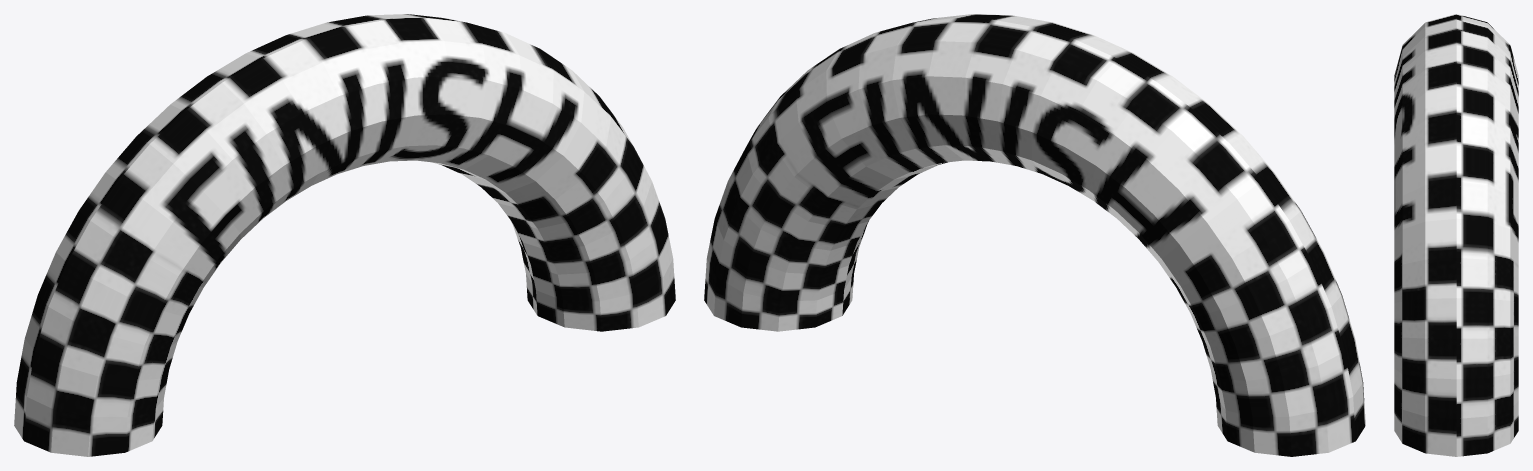
Rendered from finish.glb.
The picture shows the model from 3 angles, left to right: view 1: azimuth 30°, elevation 25°; view 2: azimuth 150°, elevation 25°; view 3: azimuth 270°, elevation 25°; orthographic projection. The views are drawn at different scales.
Visible parts, largest first — view 1: Torus; view 2: Torus; view 3: Torus.
Boxes of the visible parts, x1,y1,x2,y2 form: Torus: (14, 14, 675, 456); Torus: (704, 14, 1365, 456); Torus: (1394, 14, 1518, 456).
Size of the model in its own units: 17.05 by 8.53 by 3.41.
Materials: 1 (1 with a texture image).
